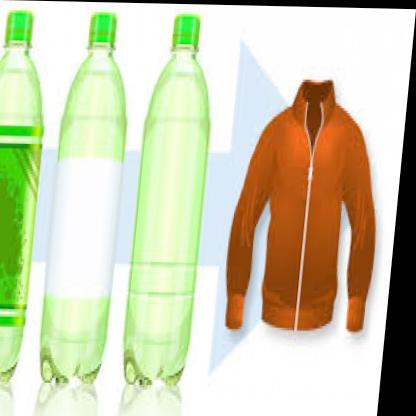Plastic: (120, 3, 228, 380), (37, 6, 141, 368), (0, 10, 53, 364)
